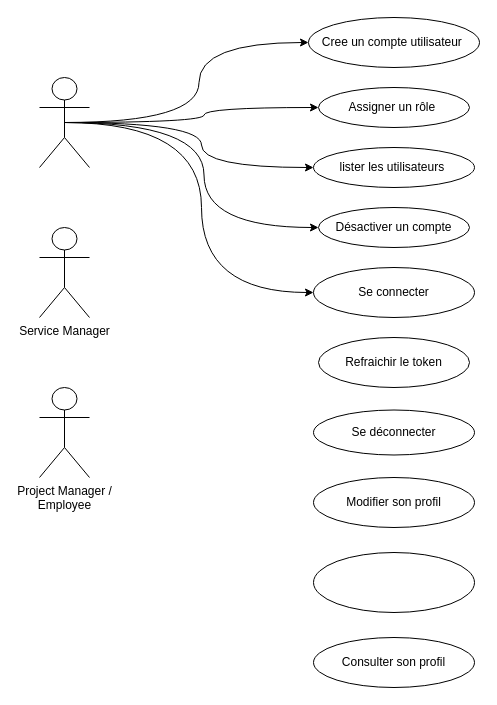
The diagram is 497 pixels wide and 705 high, and some of its shapes have lost their labels. The centre of each missing label's shape, as x and y in pixels:
"Admin" goes at pixel 64 122.
"Changer son mot de passe" goes at pixel 393 582.
